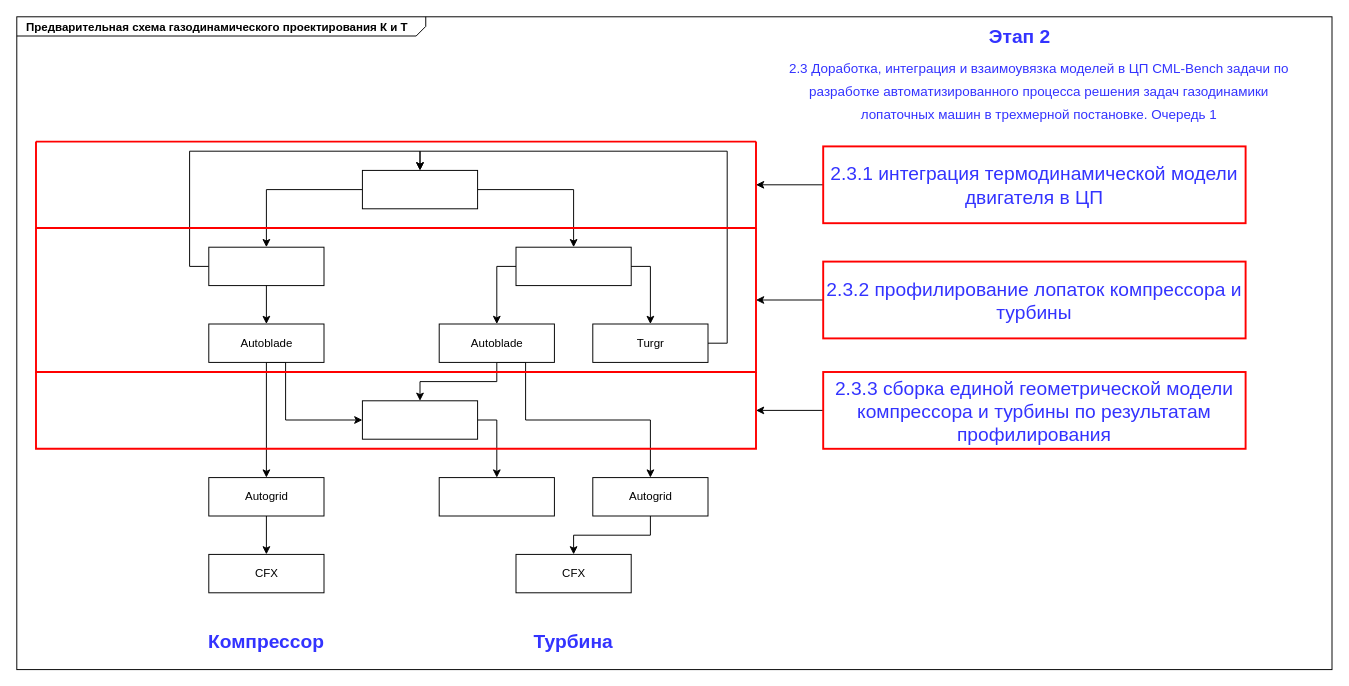
This 1349x686 diagram has some shape labels left out. The shapes that lost their labels are listed below. From the top down, each one's centre as x and y in pixels, then its label:
the point at 419,189: Огра / ТермоГТЕ
the point at 266,266: XARIKA
the point at 573,266: Turbsr
the point at 419,419: NX
the point at 496,496: Euler 3D
